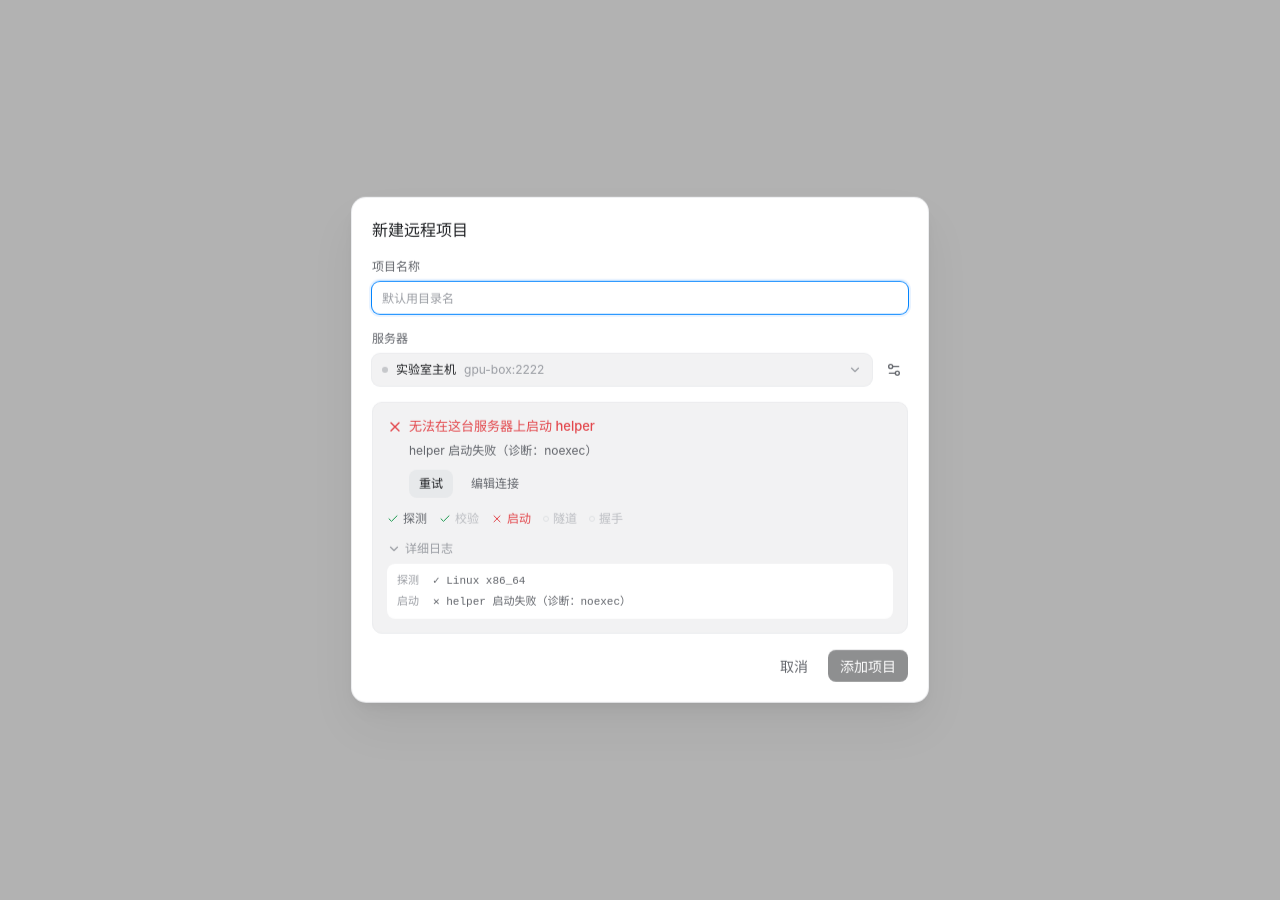
Test: shows why the server failed, keeps the log open, and retries on demand
Expected: the message "无法在这台服务器上启动 helper helper 启动失败（诊断：noexec） 重试 编辑连接" is shown, [387,418,597,498]
Expected: the element showing "探测 ✓ Linux x86_64 启动 ✕ helper 启动失败（诊断：noexec）" is shown, [387,564,893,619]
Click the button "重试" at (431, 484), box [409,470,453,498]
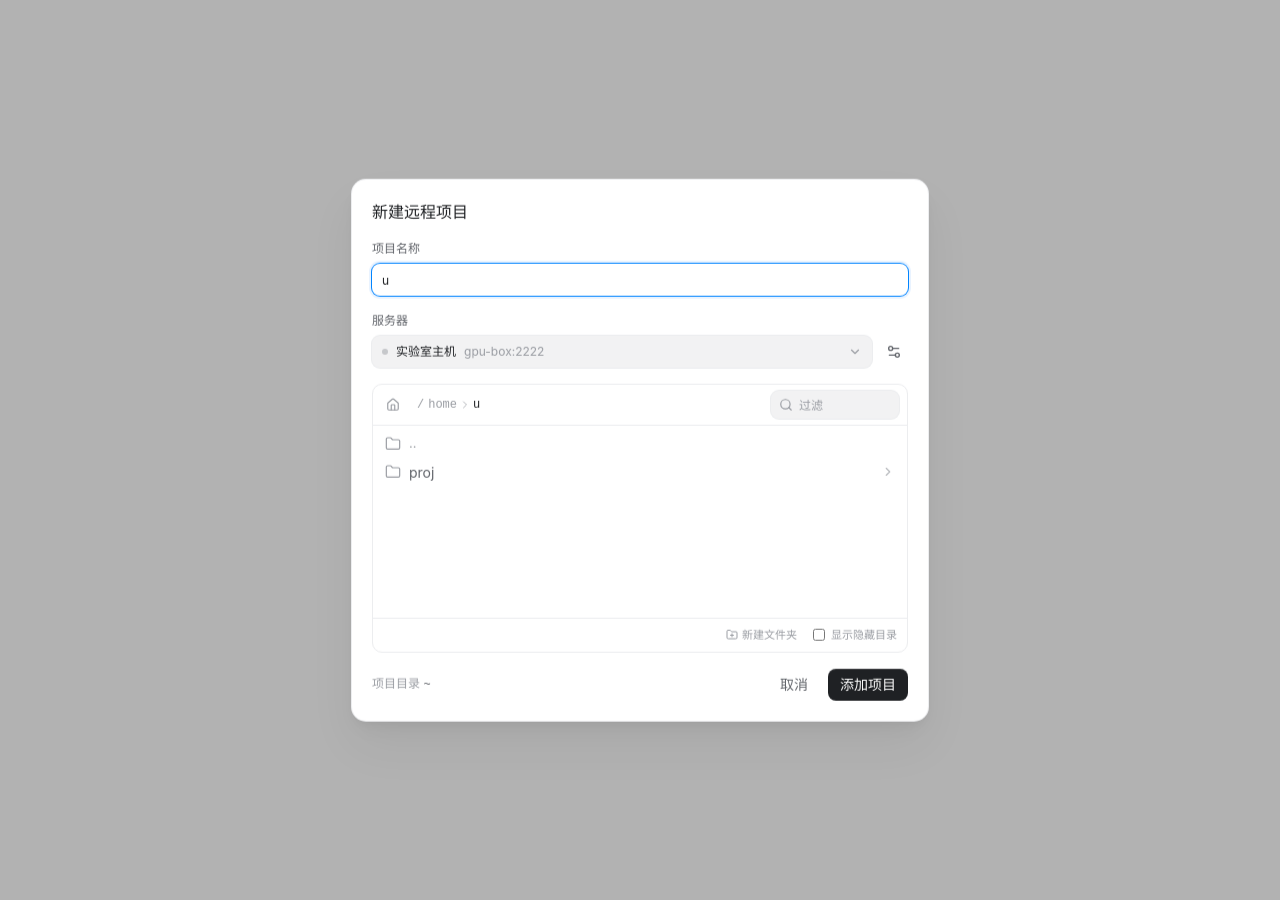
Expected: the text "proj" is shown, [409,463,434,480]
